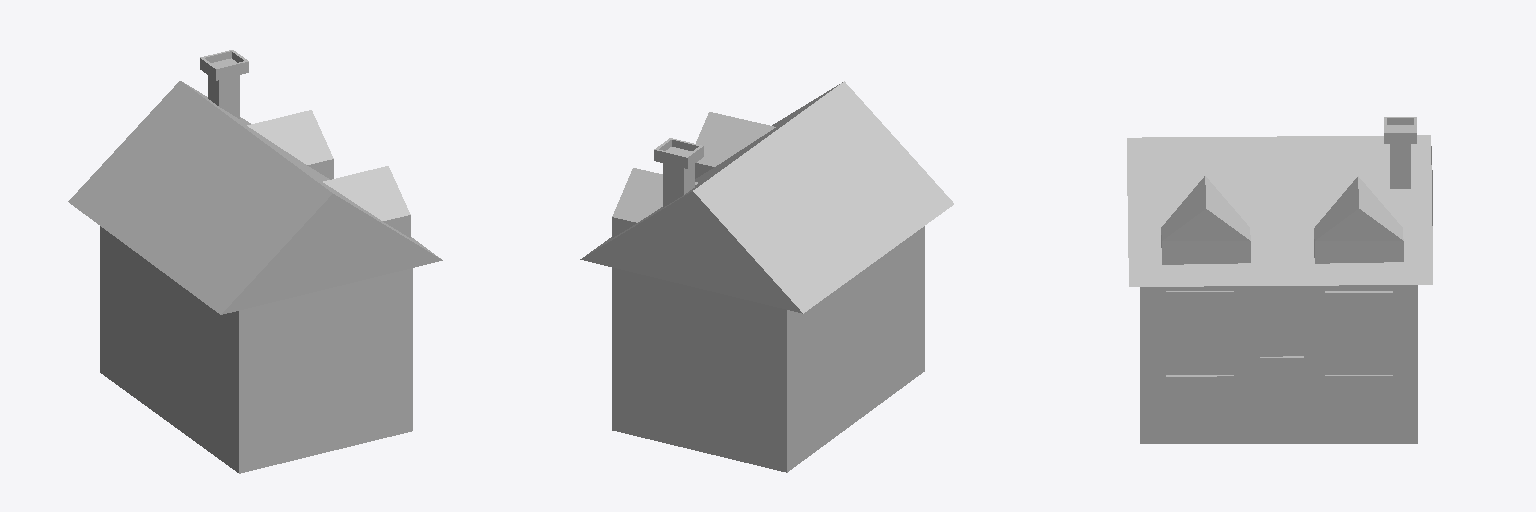
Rendered from House2.obj.
3 views of the same model, side by side, from view 1: azimuth 30°, elevation 25°; view 2: azimuth 150°, elevation 25°; view 3: azimuth 270°, elevation 25° (orthographic).
Parts seen in each view (by area): view 1: Cube_003; view 2: Cube_003; view 3: Cube_003.
Boxes of the visible parts, <box> form: Cube_003: <box>68,50,442,473</box>; Cube_003: <box>580,81,953,472</box>; Cube_003: <box>1127,117,1432,443</box>.
Bounding box in the file's own units: 73.28 × 91.05 × 87.13.